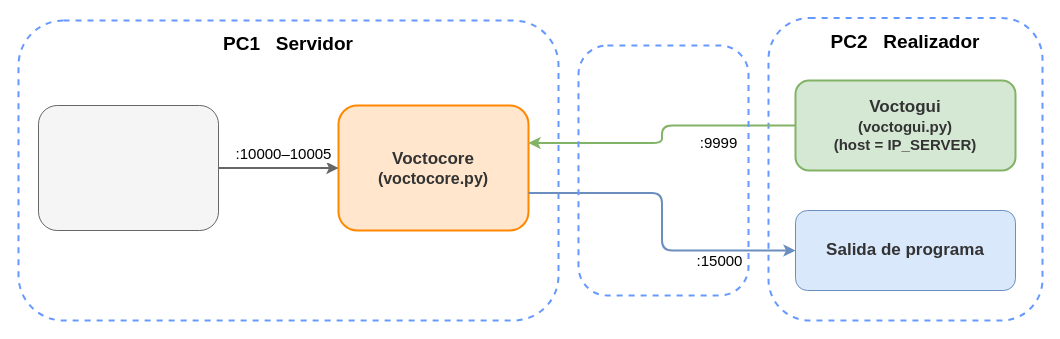
The diagram is 1060 pixels wide and 339 high, and some of its shapes have lost their labels. Each missing label, with the box of its shape:
Fuentes de señal ( FFmpeg): (38, 104, 218, 230)
Red Local (LAN): (577, 44, 749, 296)
